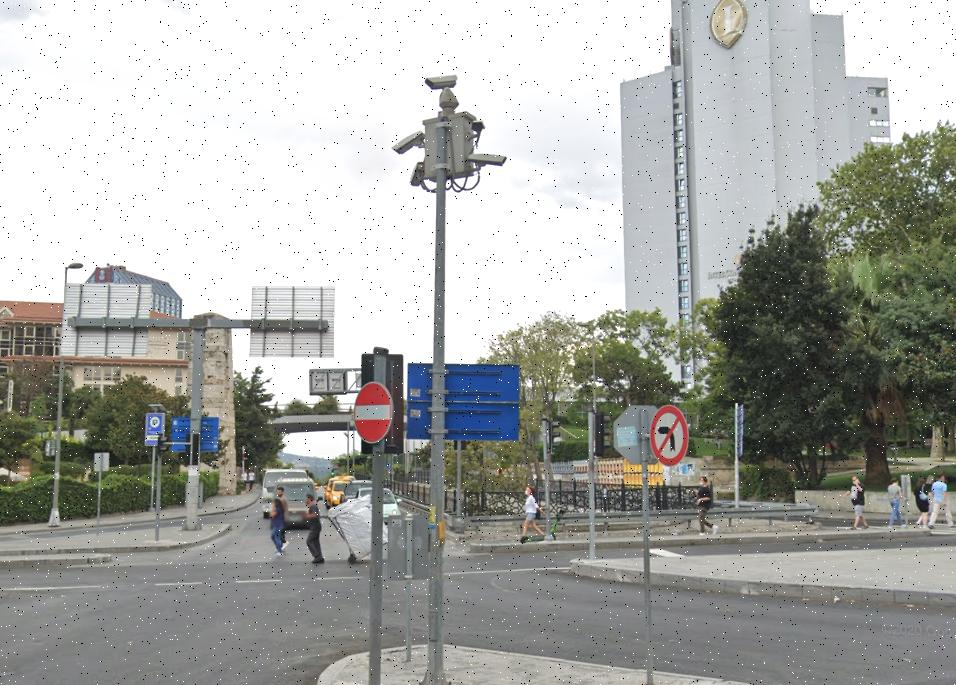leftturnsareforbidden: (647, 405, 689, 467)
